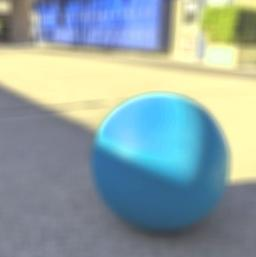algae: (95, 91, 228, 231)
